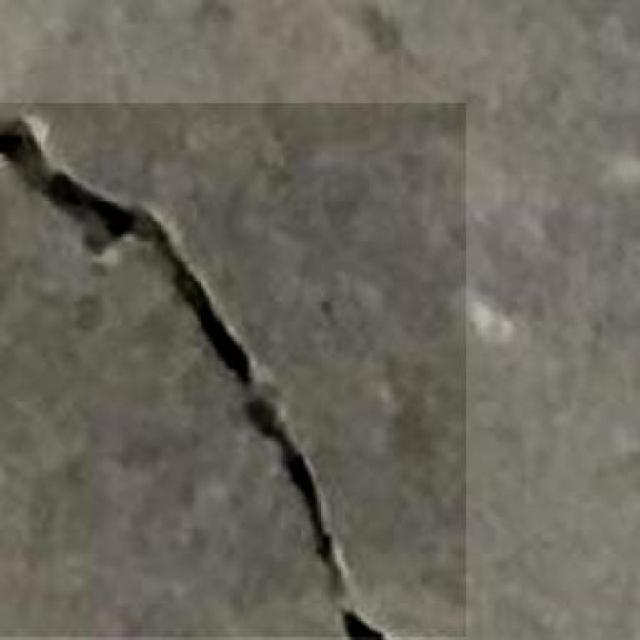Crack: (0, 106, 466, 633)
